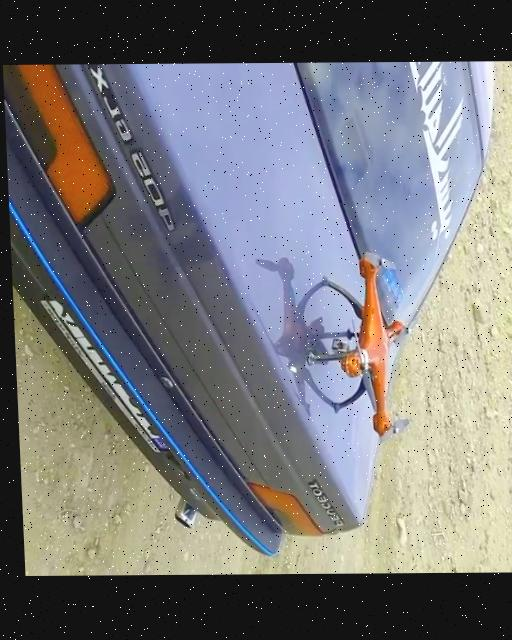drone: (298, 251, 420, 449)
